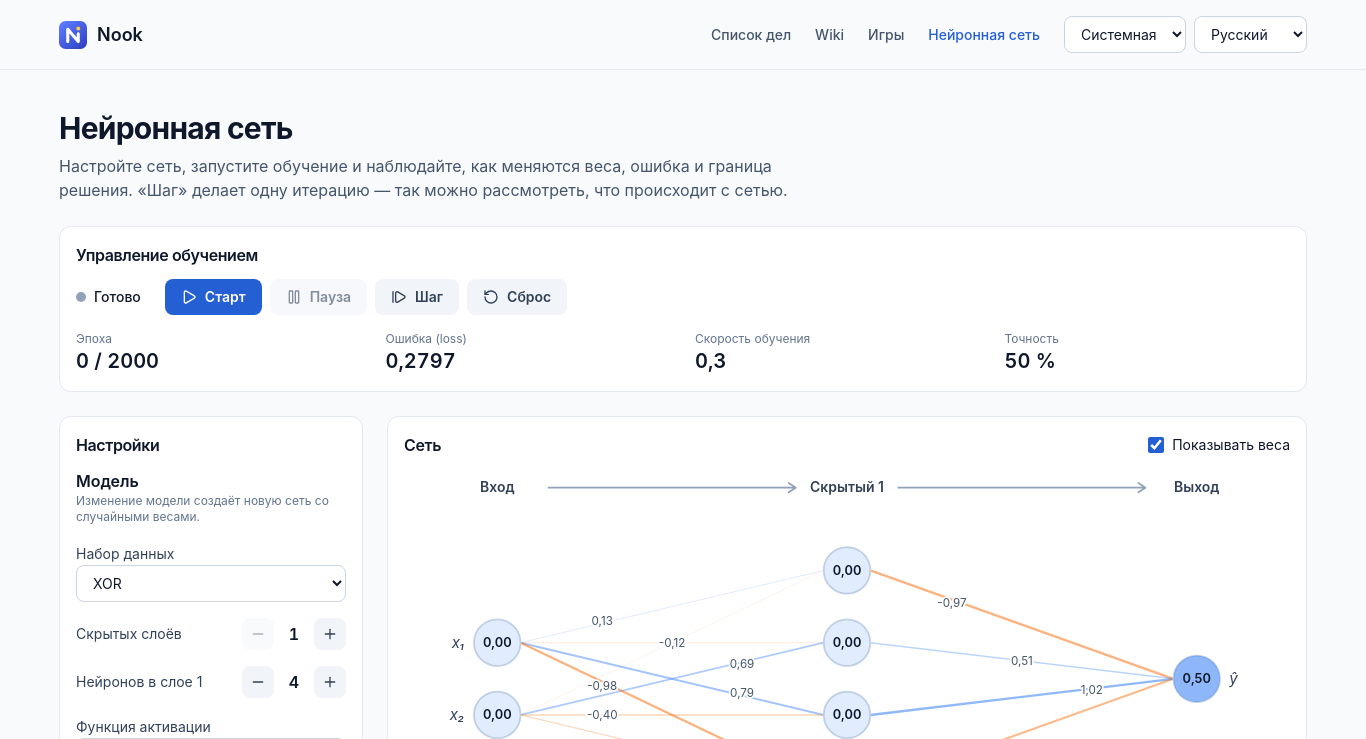
Test: /neural-network › training › Reset brings back an untrained network at epoch 0
Click the button "Шаг".
click(417, 297)  # box [375,279,459,315]
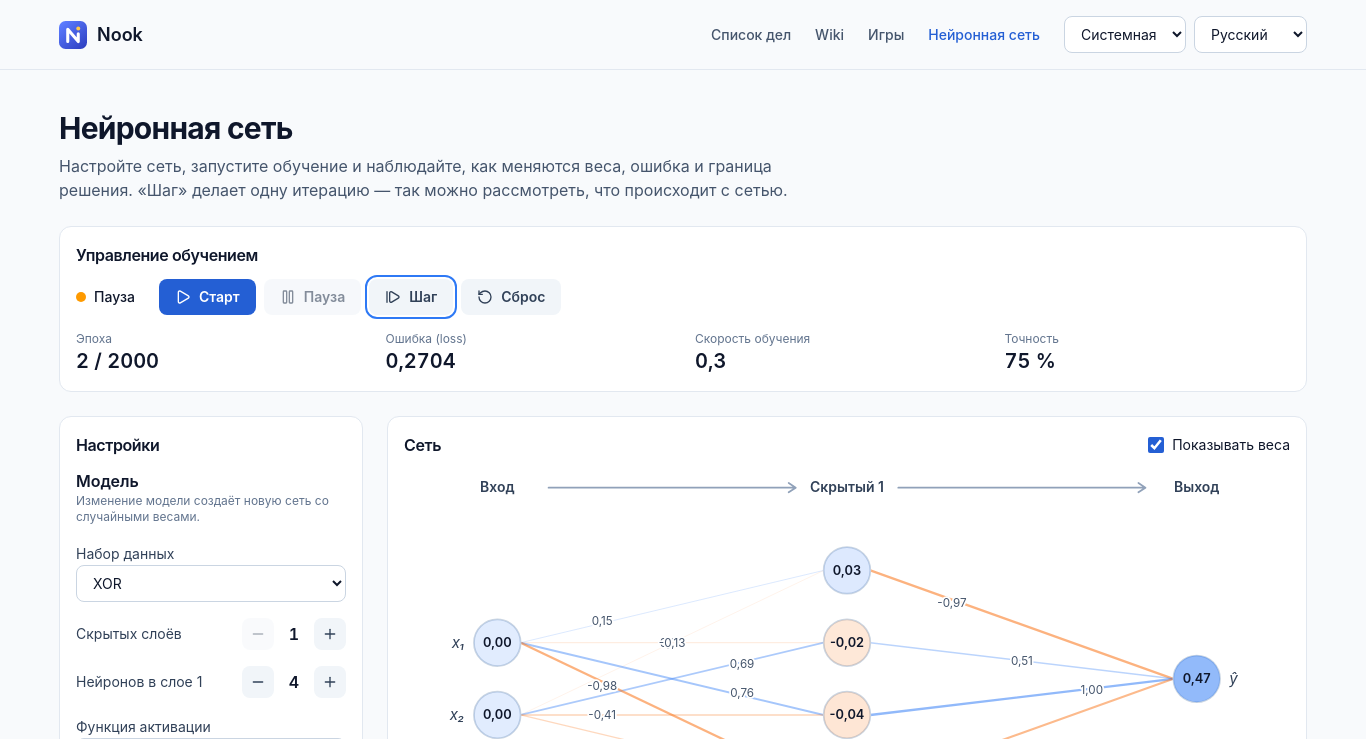
Click the button "Шаг".
click(411, 297)  # box [369,279,453,315]
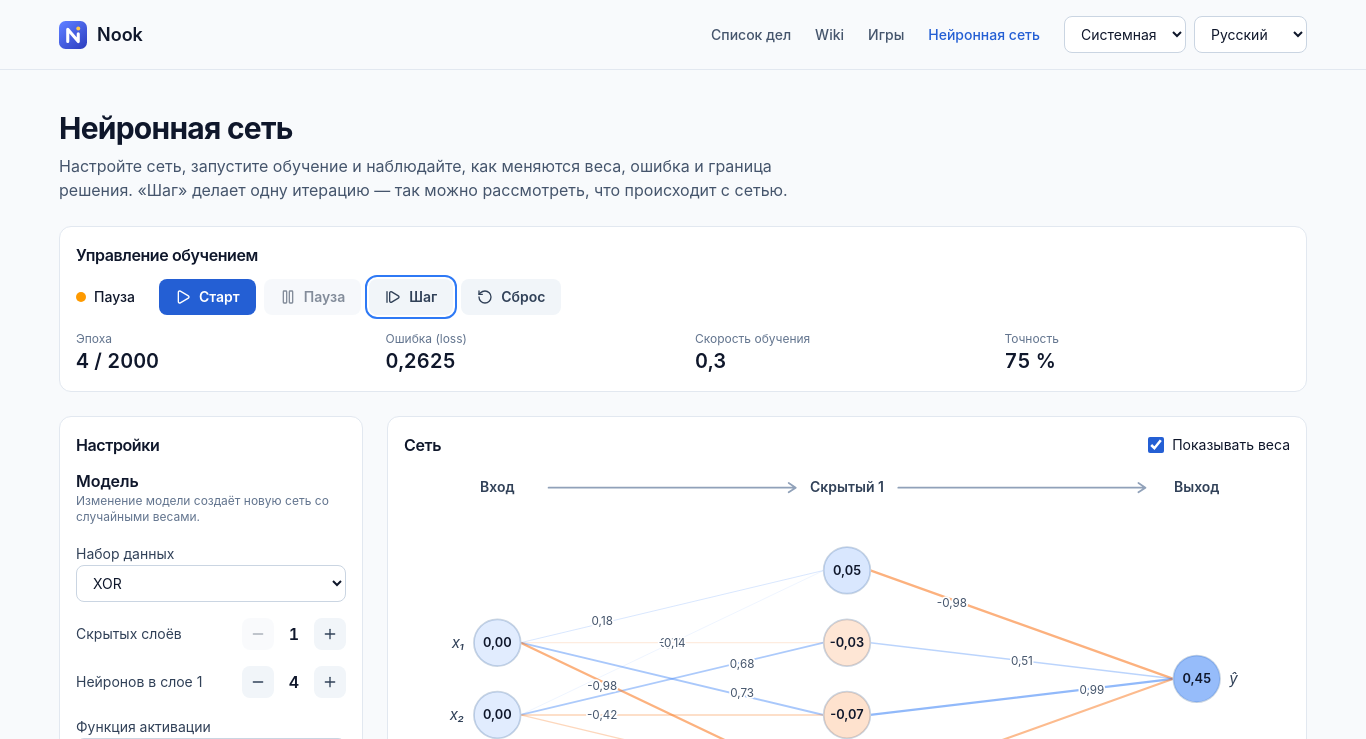
Click the button "Сброс".
click(511, 297)  # box [461,279,561,315]
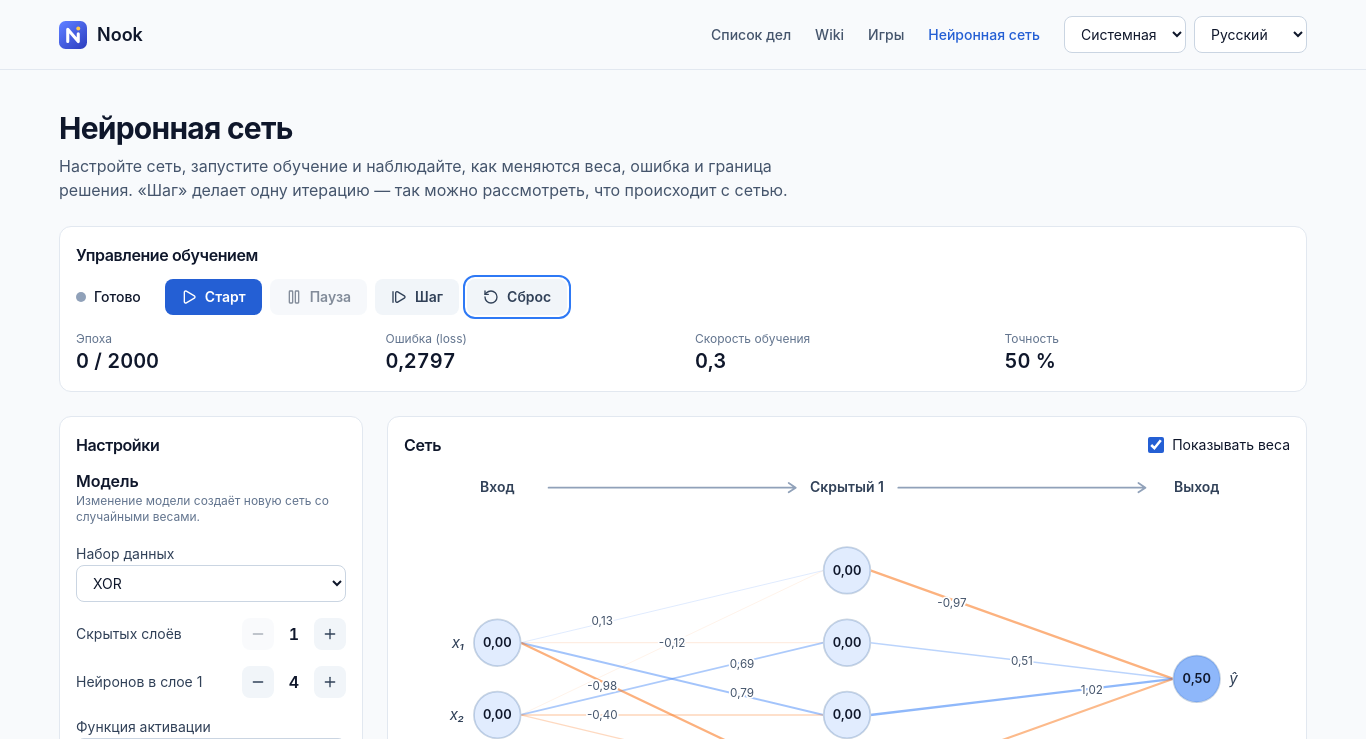
Expected: the message reads "Готово", [94,288,141,305]
